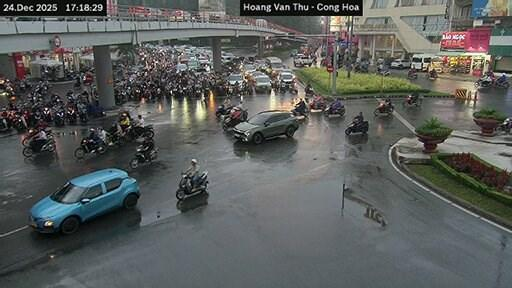motorbike: (176, 171, 208, 198), (74, 138, 105, 157), (130, 145, 156, 167), (221, 108, 246, 130), (22, 139, 54, 156), (124, 125, 153, 138), (106, 127, 124, 144), (345, 121, 368, 134), (323, 104, 345, 117), (22, 127, 37, 145), (309, 95, 326, 109), (291, 104, 309, 117), (374, 103, 393, 115), (403, 94, 422, 106), (12, 113, 25, 130), (214, 103, 231, 116), (499, 117, 511, 131), (54, 108, 63, 125), (492, 79, 508, 88), (77, 108, 88, 121), (425, 68, 437, 79), (377, 64, 389, 75), (66, 108, 75, 122), (0, 118, 10, 130), (42, 108, 51, 121), (474, 79, 490, 86), (288, 81, 297, 93), (304, 86, 313, 97), (44, 129, 53, 138), (406, 72, 416, 79), (278, 85, 285, 93), (279, 82, 285, 85)
